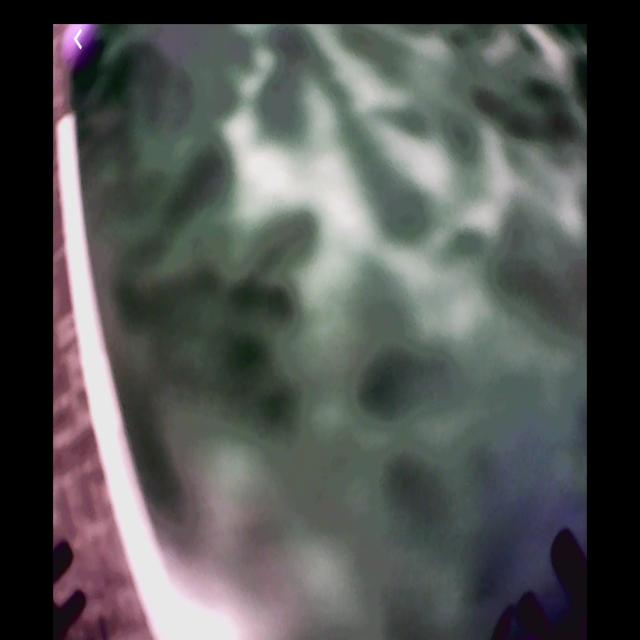ball: (56, 27, 106, 73)
